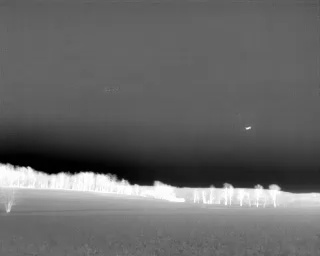DRONE: (242, 122, 254, 134)
